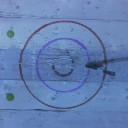Axe Tip: (92, 62, 103, 66)
